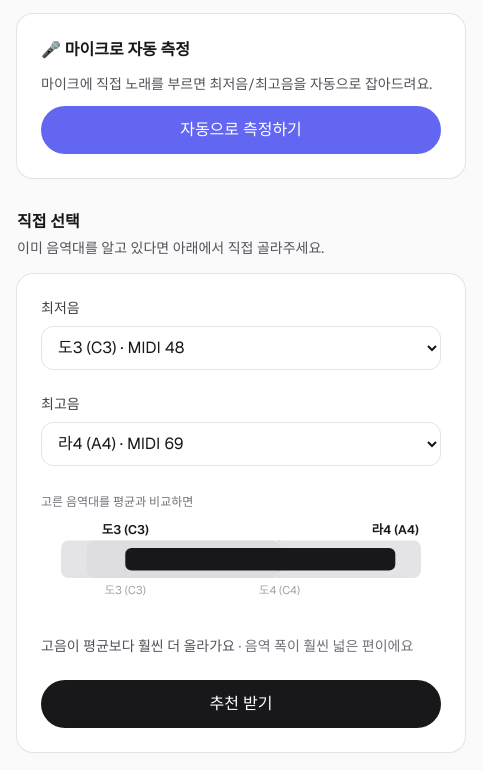
Test: VoiceRangePage mutation 경계 가드 (race/unmount/Button reflect) › mutation pending 동안 Button 이 aria-busy + disabled + '저장 중...' 라벨로 reflect 된다
(page scrolled)
Click the button "추천 받기" at x=241, y=704, box [41,680,441,728]
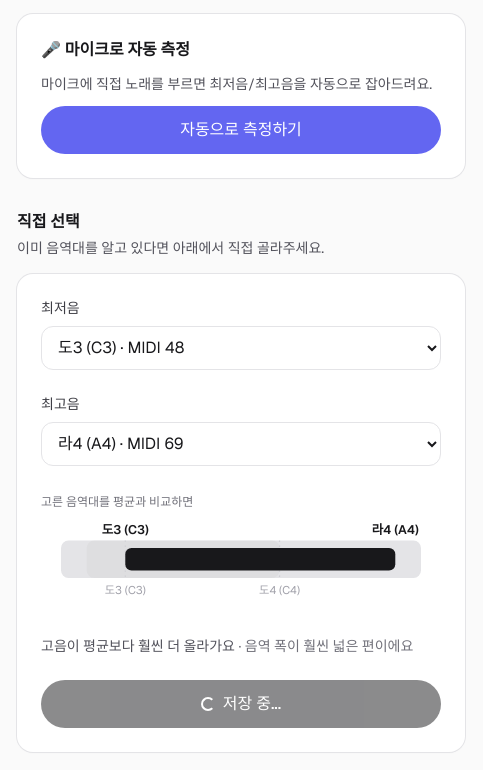
Expected: the button named "추천 받기" is disabled, [41,680,441,728]
Expected: the button named "추천 받기" reads "저장 중...", [41,680,441,728]
